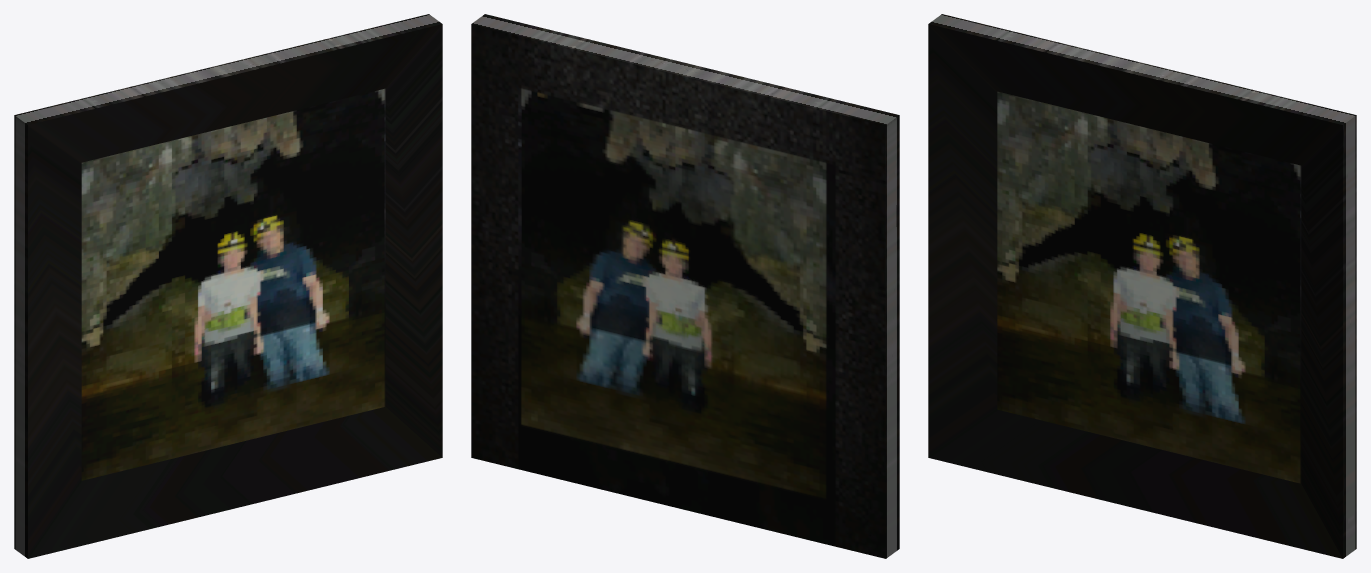
Rendered from Quadro_paiefilho.fbx.
3 renders of one model, left to right at view 1: azimuth 30°, elevation 25°; view 2: azimuth 150°, elevation 25°; view 3: azimuth 330°, elevation 25°, orthographic.
Parts seen in each view (by area): view 1: node_id5; view 2: node_id5; view 3: node_id5.
Boxes of the visible parts, box(x1,y1,x2,y2) form: node_id5: box(14, 14, 442, 558); node_id5: box(471, 14, 899, 558); node_id5: box(928, 14, 1356, 558).
Bounding box in the file's own units: 0.1224 × 0.1224 × 0.00698.
1 material, 1 textured.
